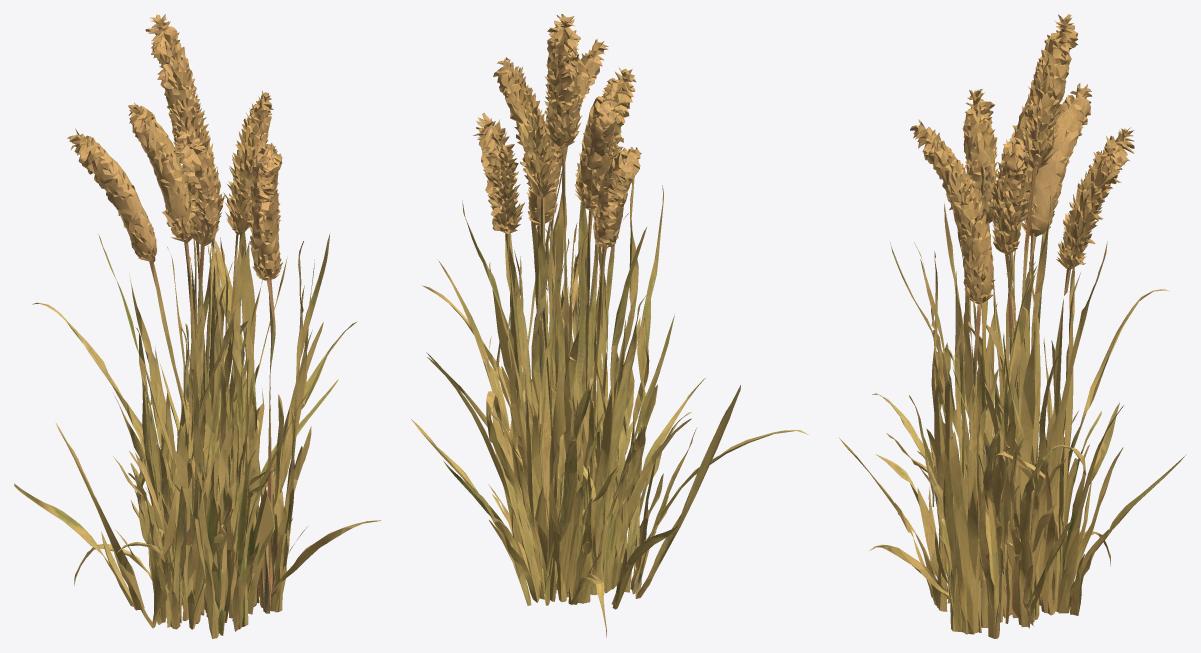
File: switchgrass.glb
The picture shows the model from 3 angles, left to right: view 1: azimuth 30°, elevation 25°; view 2: azimuth 150°, elevation 25°; view 3: azimuth 270°, elevation 25°; orthographic projection. The views are drawn at different scales.
Visible parts, largest first — view 1: mesh_node; view 2: mesh_node; view 3: mesh_node.
Part boxes in pixels (left/top/right/bottom): mesh_node: left=14, top=14, right=381, bottom=638; mesh_node: left=410, top=14, right=808, bottom=637; mesh_node: left=839, top=14, right=1186, bottom=638.
Size of the model in its own units: 1.07 by 1.9 by 1.02.
1 material, 1 textured.
